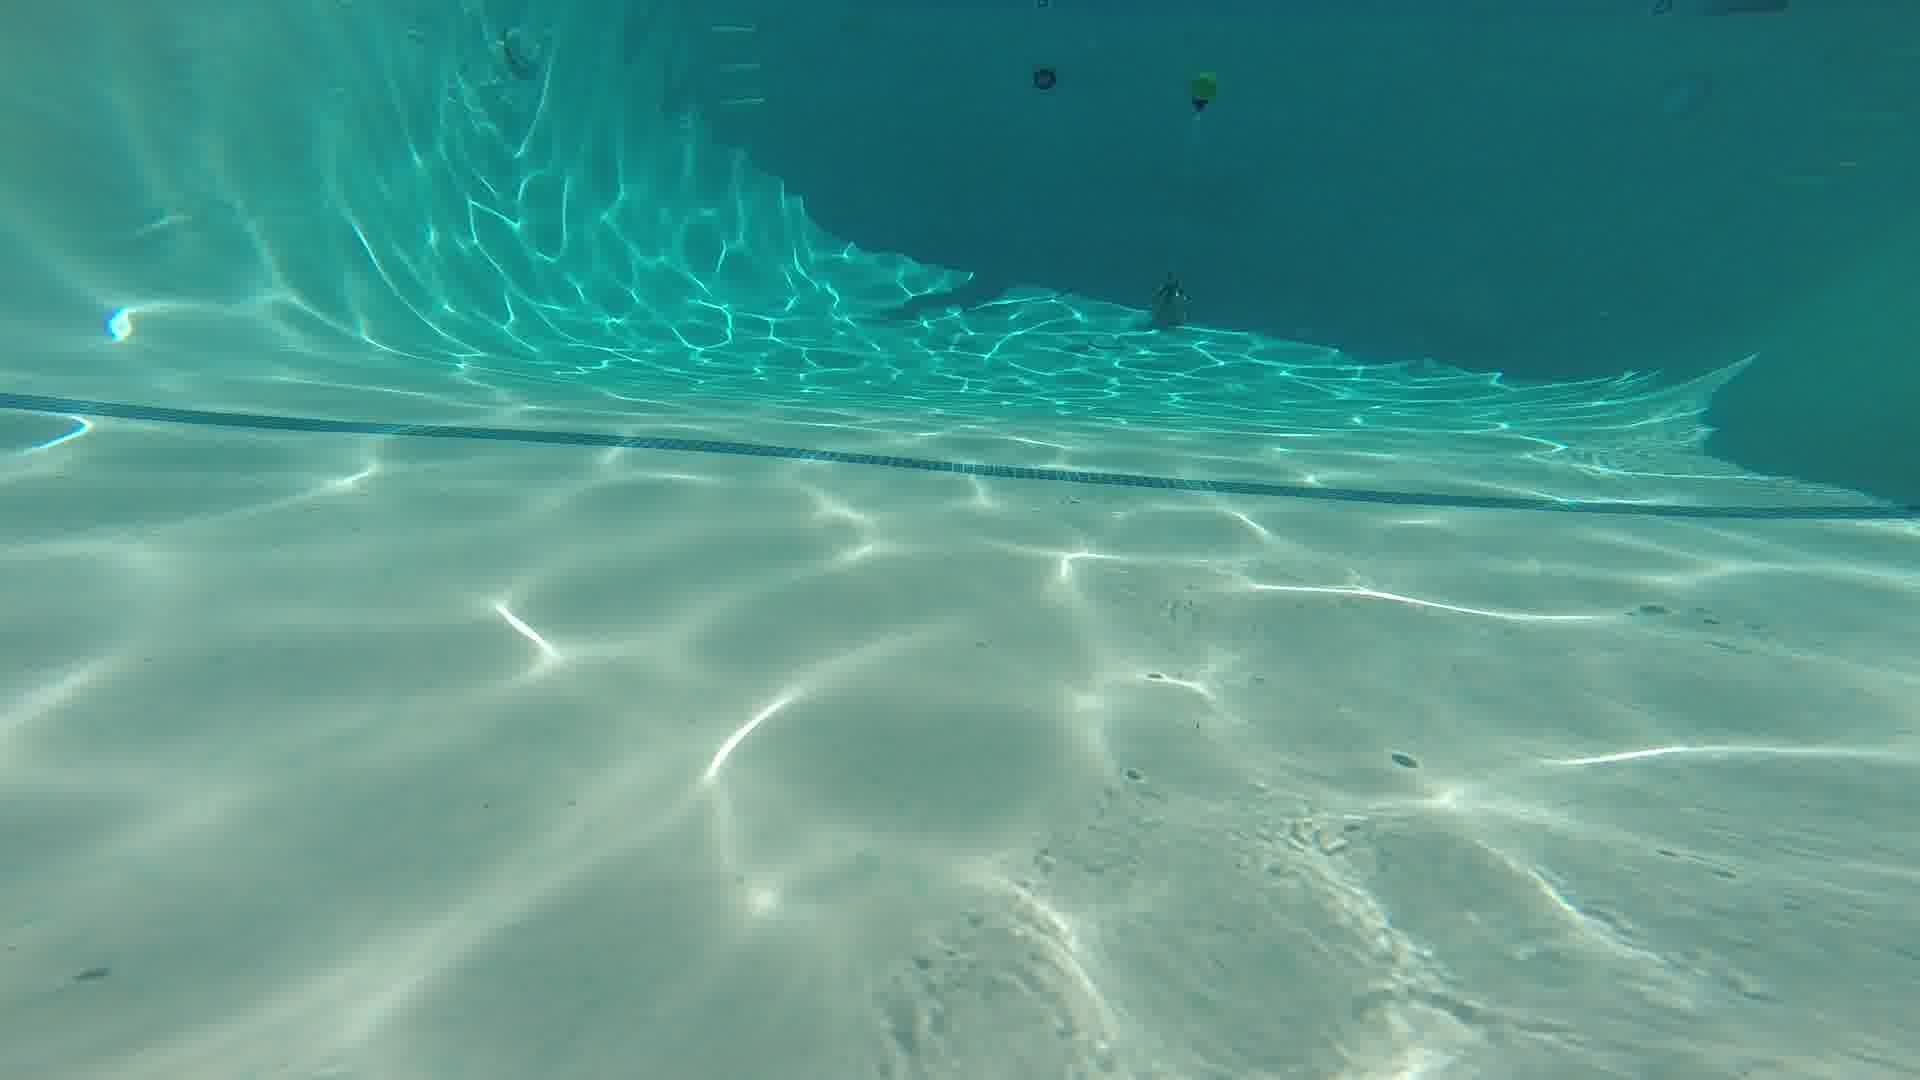yellow_buoy: (1189, 71, 1216, 111)
